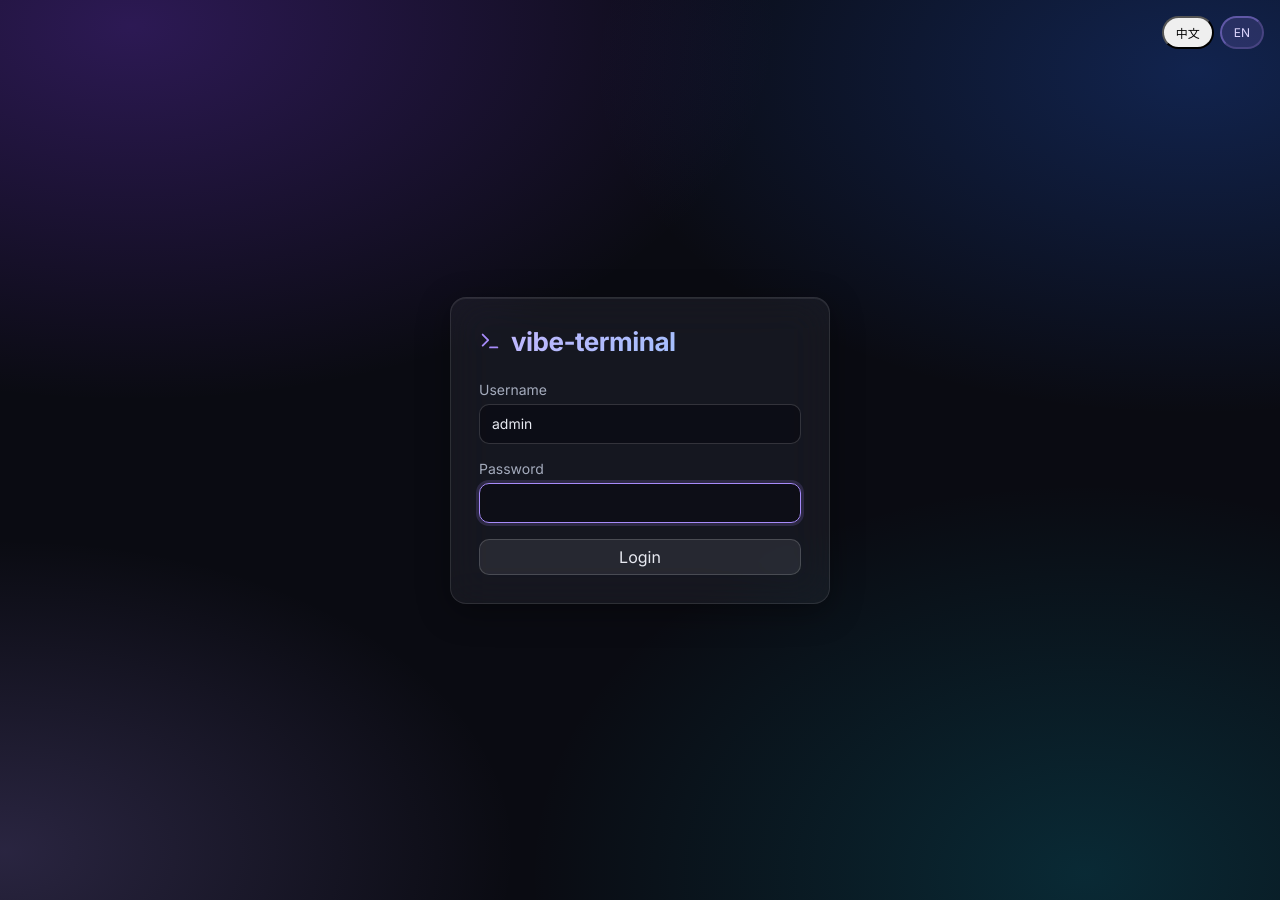
Scenario: LoginView › login_restart_required 会清空第二步状态并返回密码页
Step 1. Type "secret" into the password field labelled "Password" → coordinates (640, 502), box [479,482,801,522]
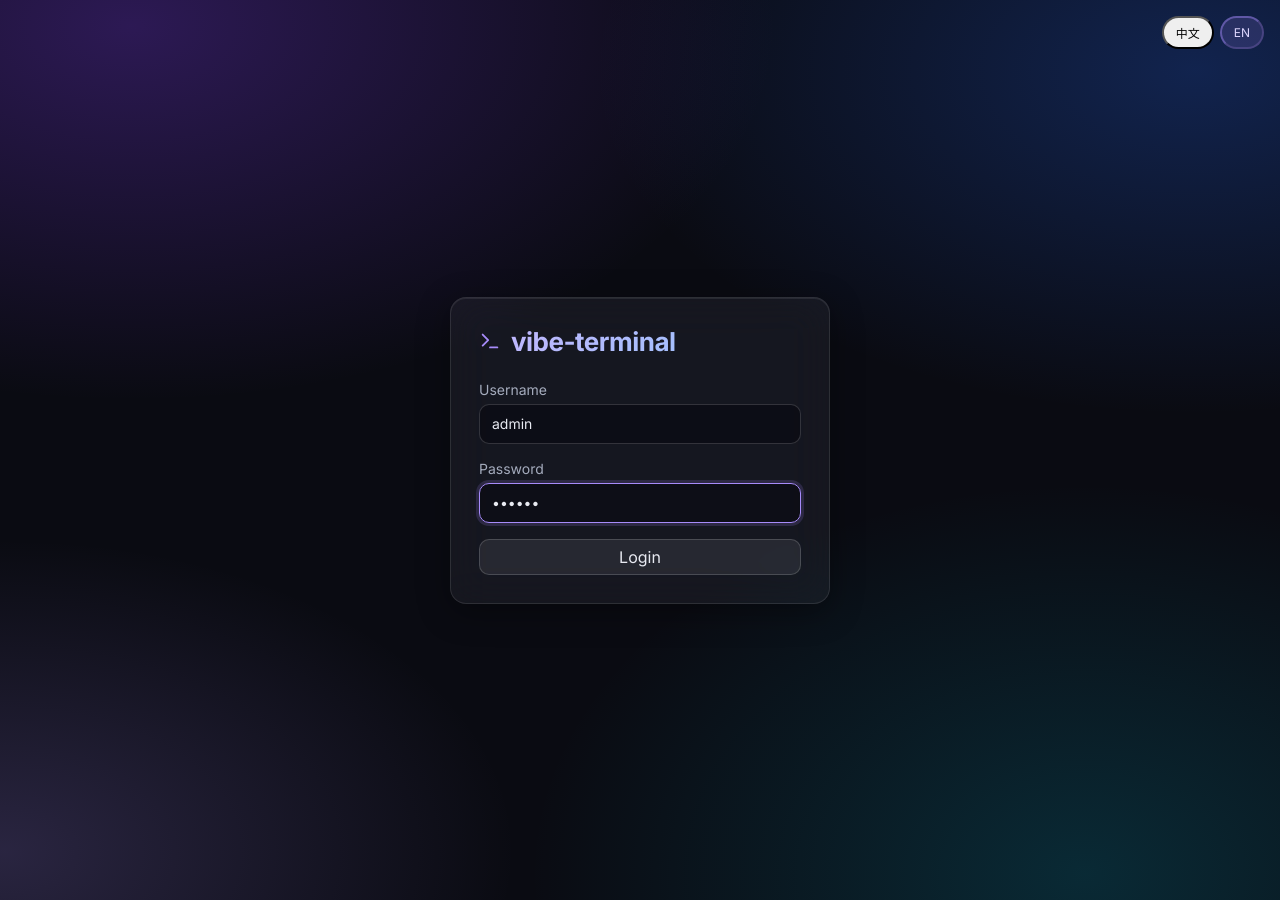
Step 2. Click the button "Login" → coordinates (640, 556), box [479,538,801,574]
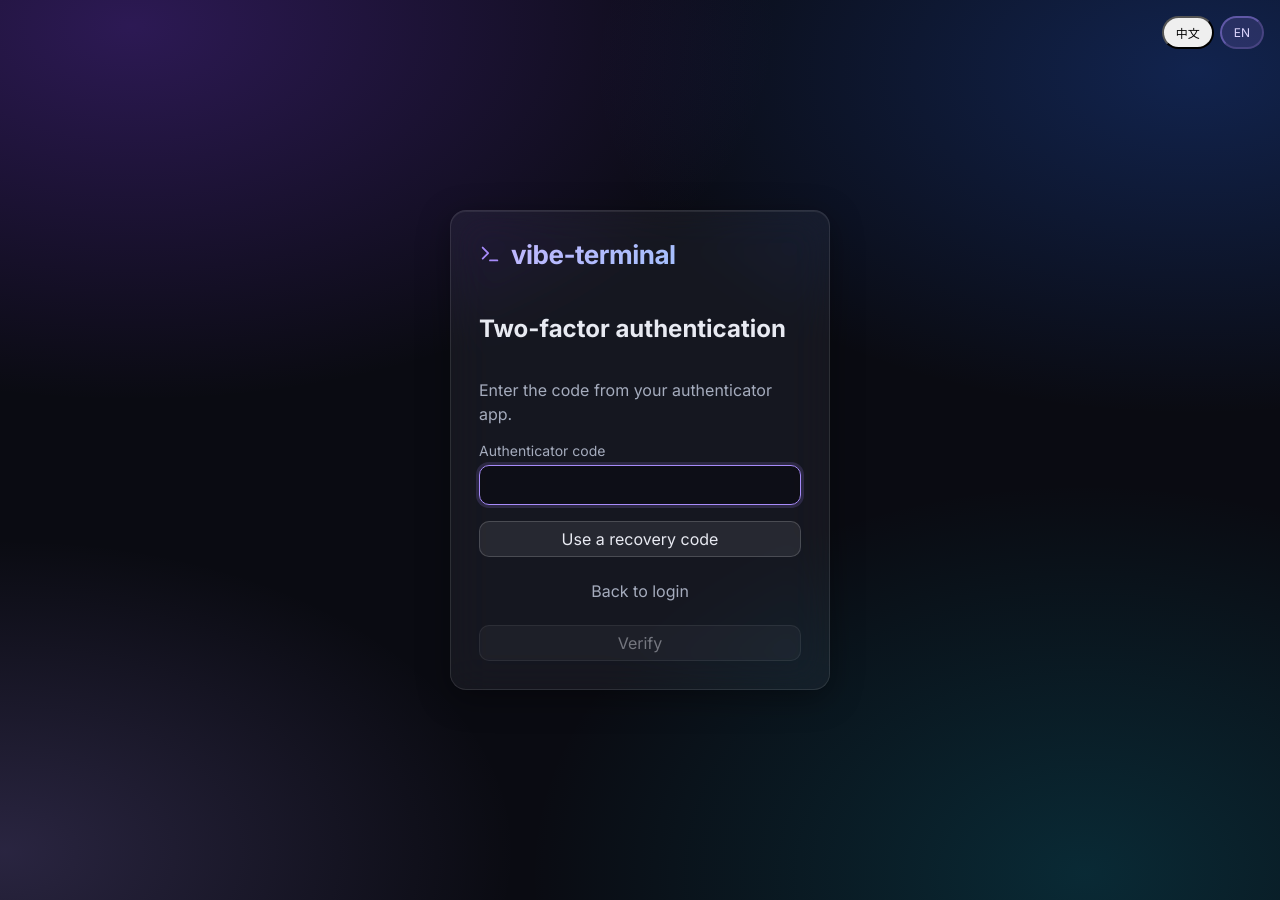
Step 3. Click the button "Use a recovery code" → coordinates (640, 539), box [479,521,801,557]
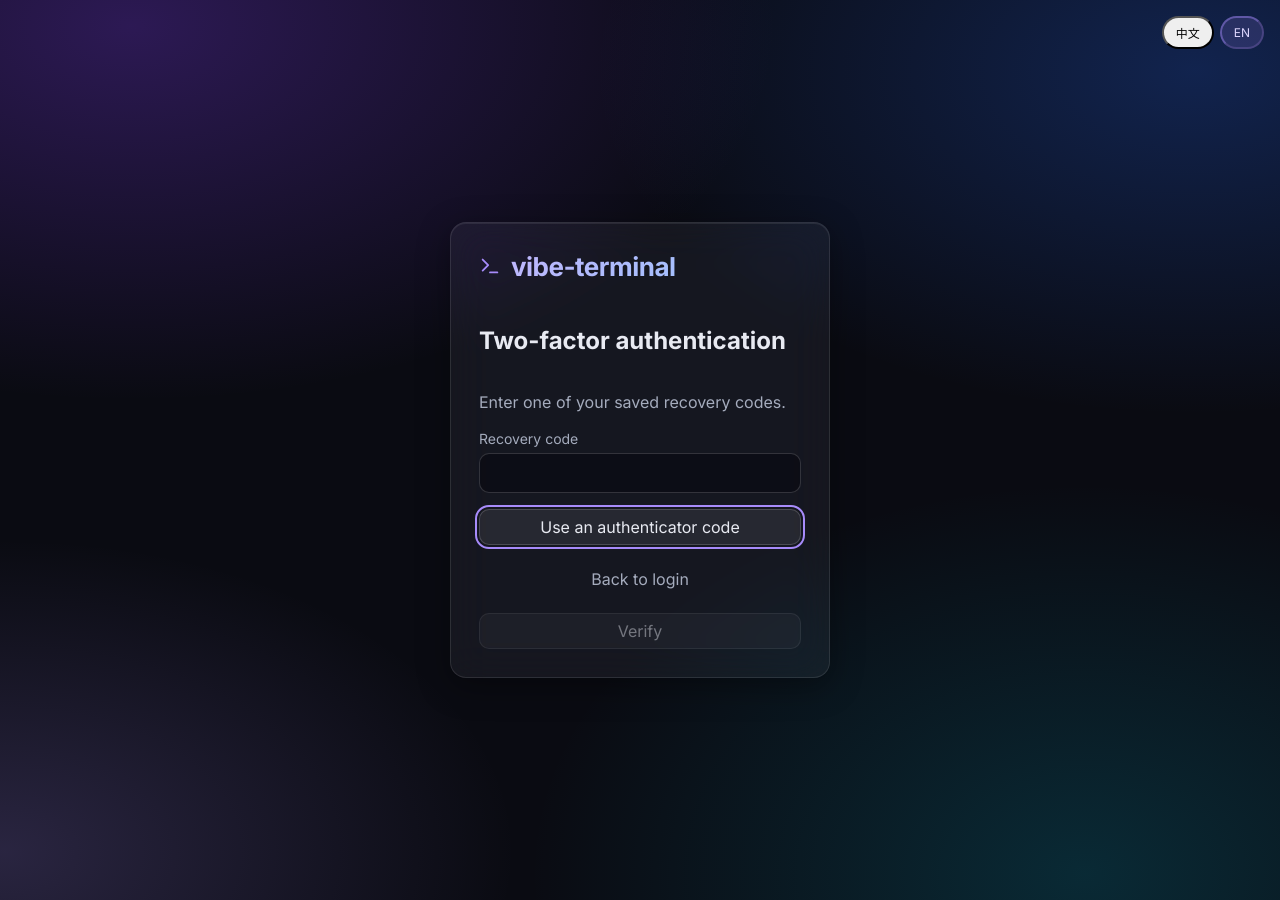
Step 4. Type "ABCD-EFGH-IJKL" into the field labelled "Recovery code" → coordinates (640, 473), box [479,453,801,493]
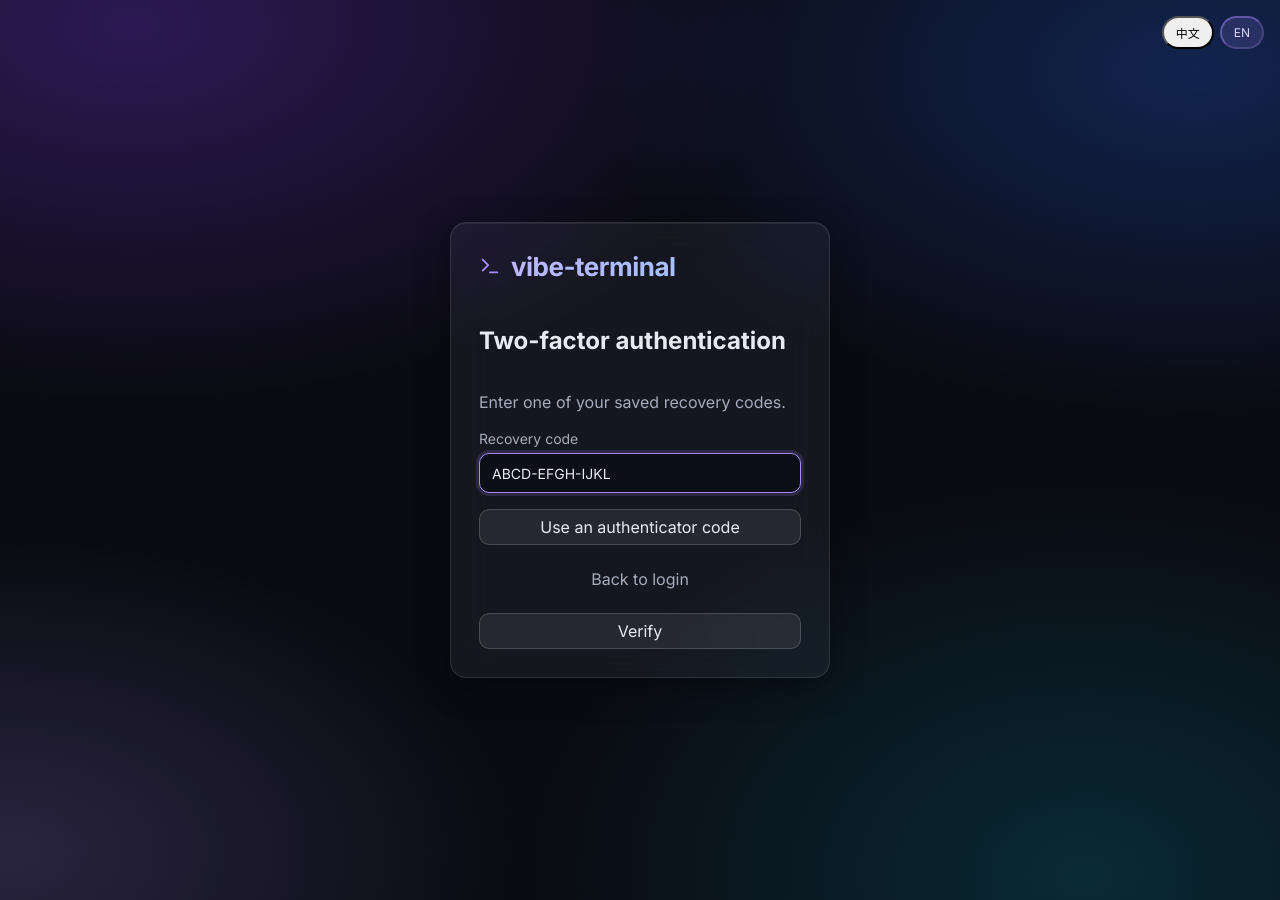
Step 5. Click the button "Verify" → coordinates (640, 631), box [479,613,801,649]
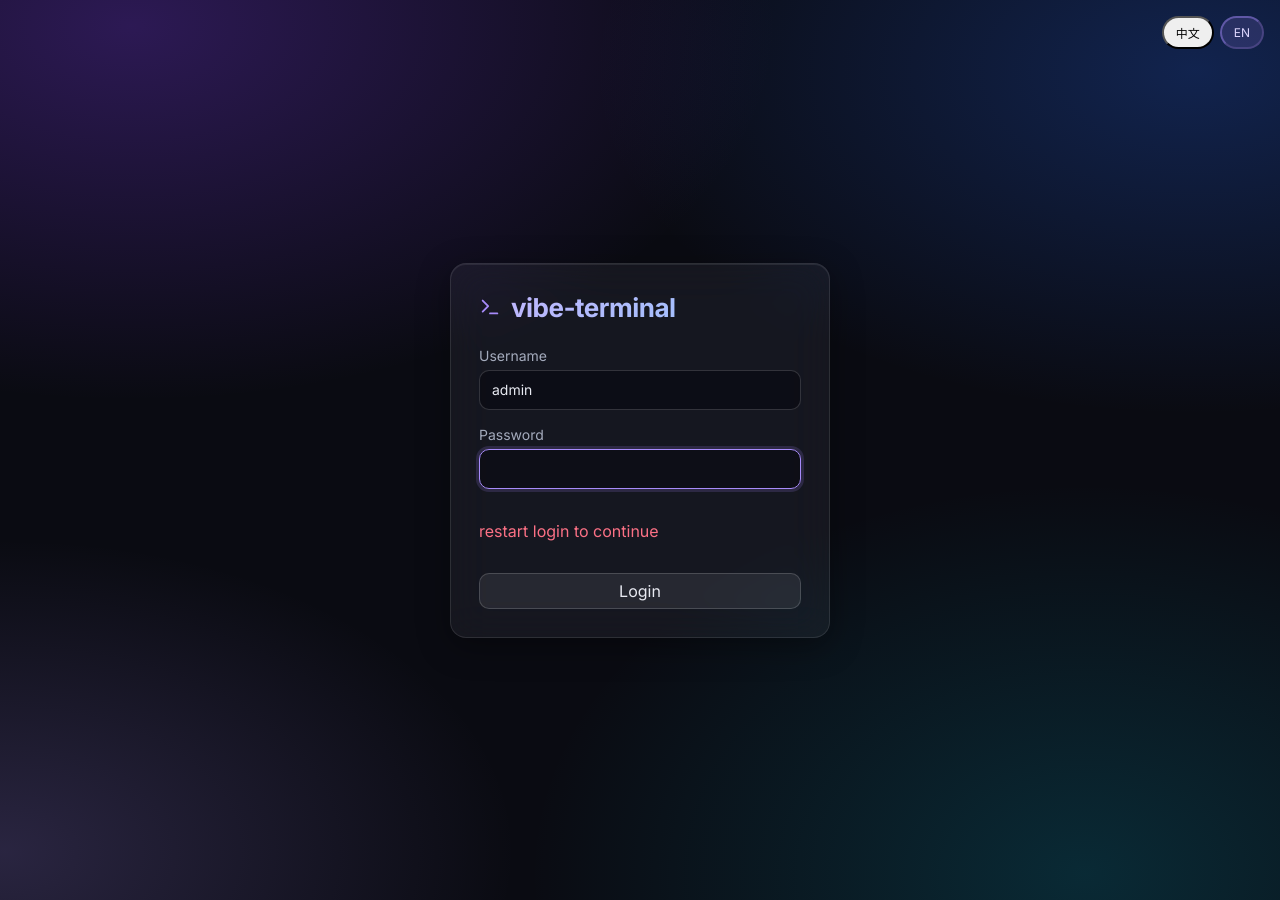
Now the password field labelled "Password" is empty, box [479,448,801,488]
Now the message reads "restart login to continue", box [479,520,659,540]
Now the text labelled "recovery code" is gone
